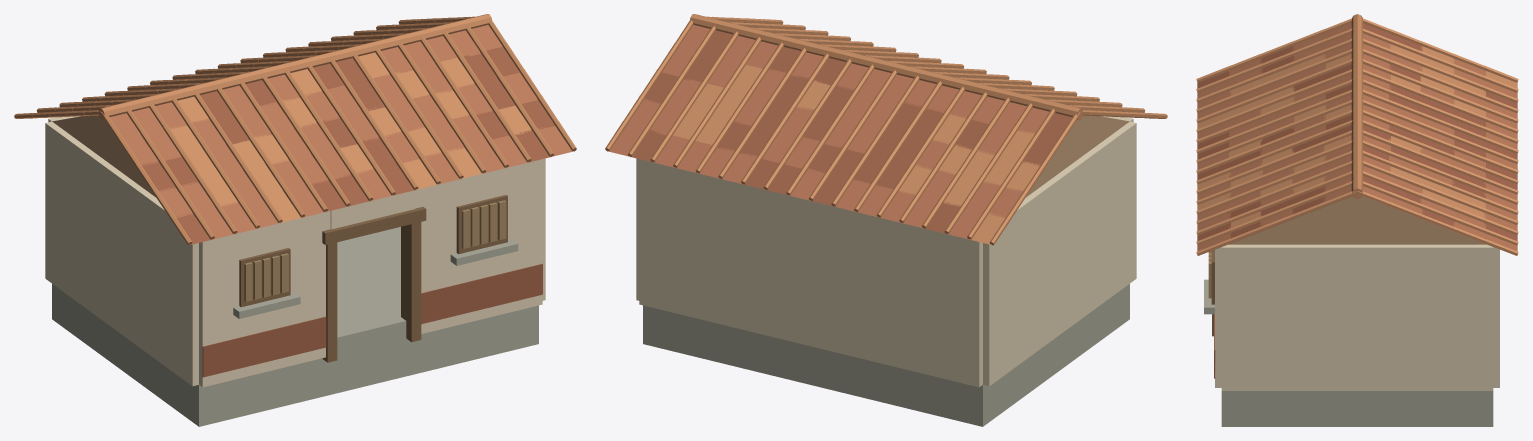
The model's file is road_inn.glb.
The picture shows the model from 3 angles, left to right: view 1: azimuth 30°, elevation 25°; view 2: azimuth 150°, elevation 25°; view 3: azimuth 270°, elevation 25°; orthographic projection. The views are drawn at different scales.
Parts seen in each view (by area): view 1: StreetInn; view 2: StreetInn; view 3: StreetInn.
Boxes of the visible parts, x1,y1,x2,y2 form: StreetInn: (14, 14, 576, 426); StreetInn: (605, 14, 1167, 426); StreetInn: (1196, 14, 1518, 426).
Bounding box in the file's own units: 7.32 × 4.87 × 5.7.
